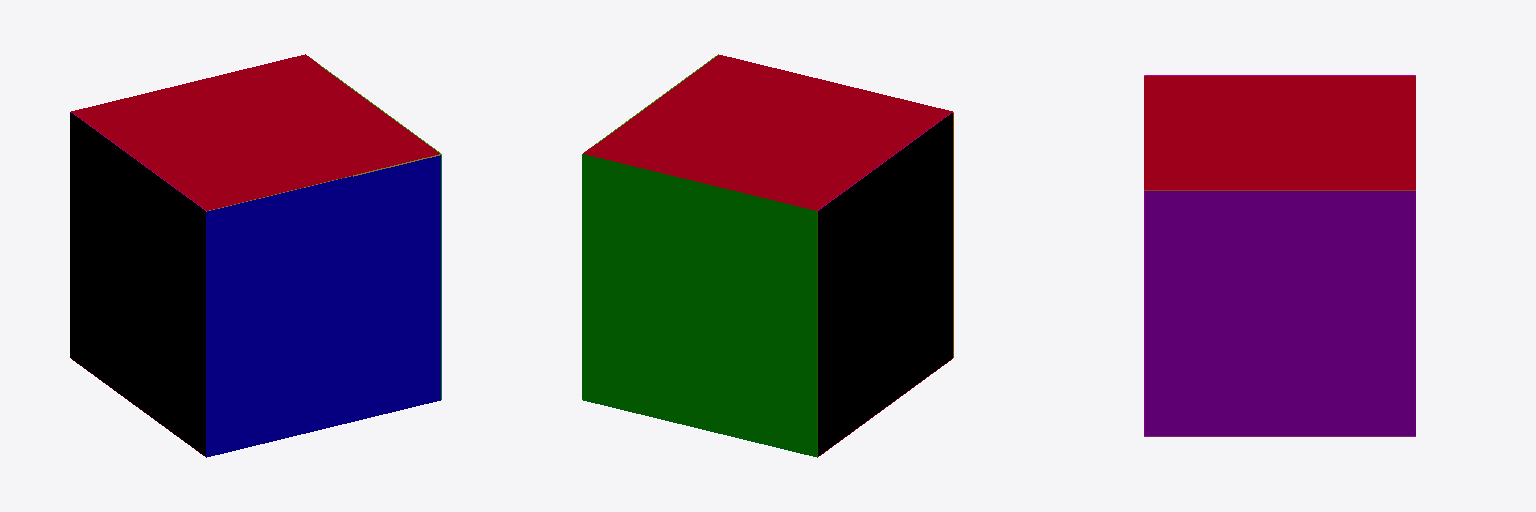
3 renders of one model, left to right at view 1: azimuth 30°, elevation 25°; view 2: azimuth 150°, elevation 25°; view 3: azimuth 270°, elevation 25°, orthographic.
Visible parts, largest first — view 1: Cube; view 2: Cube; view 3: Cube.
Boxes of the visible parts, box(x1,y1,x2,y2) form: Cube: box(70, 54, 441, 457); Cube: box(582, 54, 953, 457); Cube: box(1144, 75, 1415, 436).
Size of the model in its own units: 1 by 1 by 1.
1 materials, 1 textured.